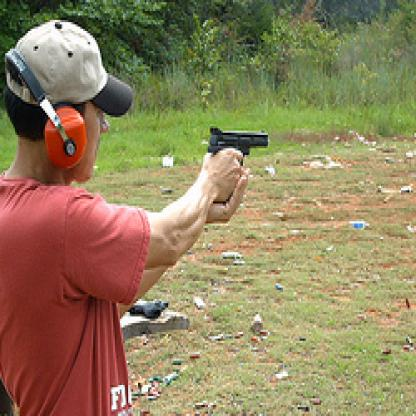gun: (200, 115, 273, 215)
